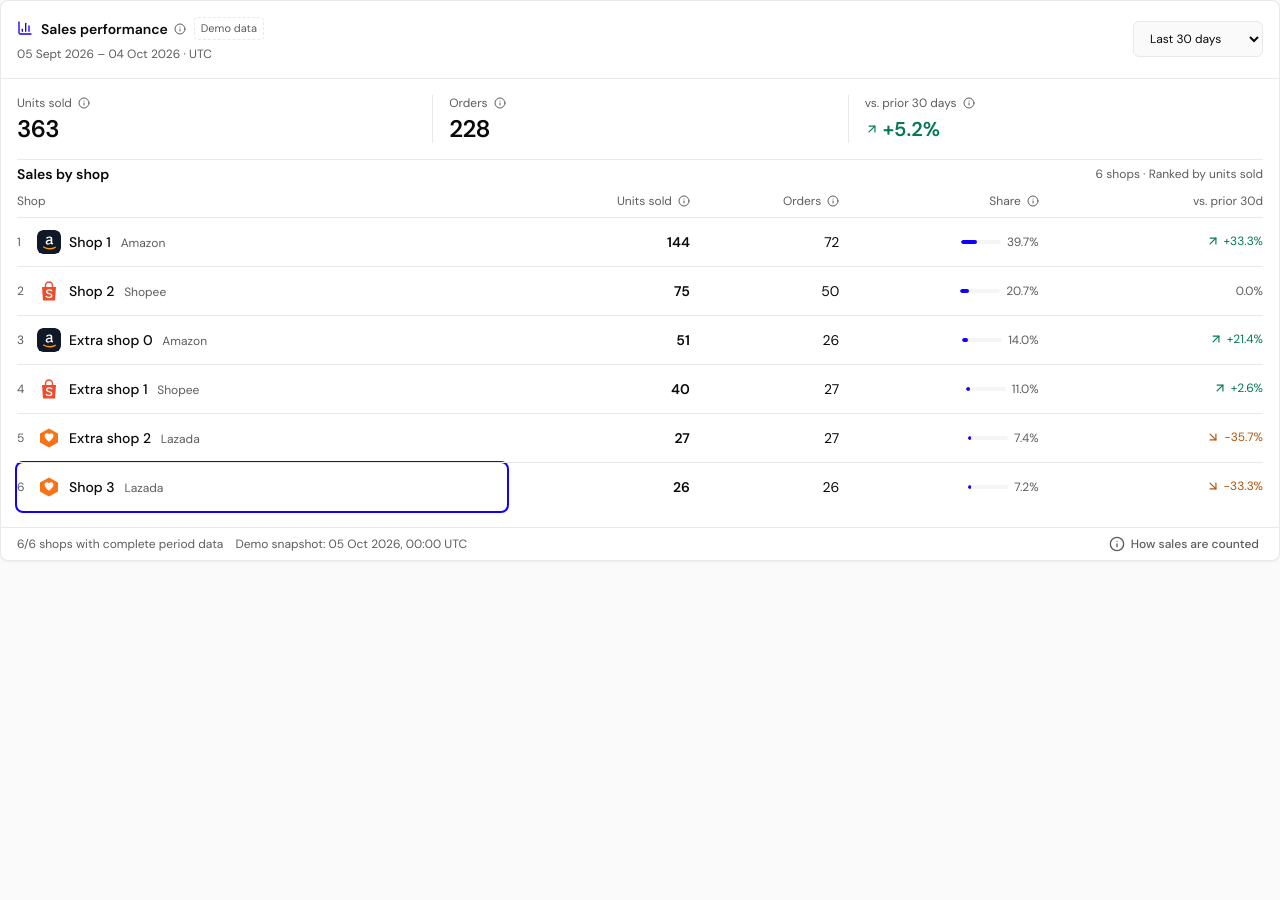
Test: ProductSalesPerformance › shows every shop and all shop metrics directly in Overview, without a view-all step
The width and height of the screenshot is (1280, 900).
expect the element named "Sales summary" shows "363": met, box [17,114,59,144]
expect the number of column headings is 5: met, box [17,184,515,218]; [515,184,690,218]; [690,184,839,218]; [839,184,1039,218]; [1039,184,1263,218]
Step 1. Click the button "6 Shop 3 Lazada" → (92, 487), box [17,463,507,511]
(page scrolled)
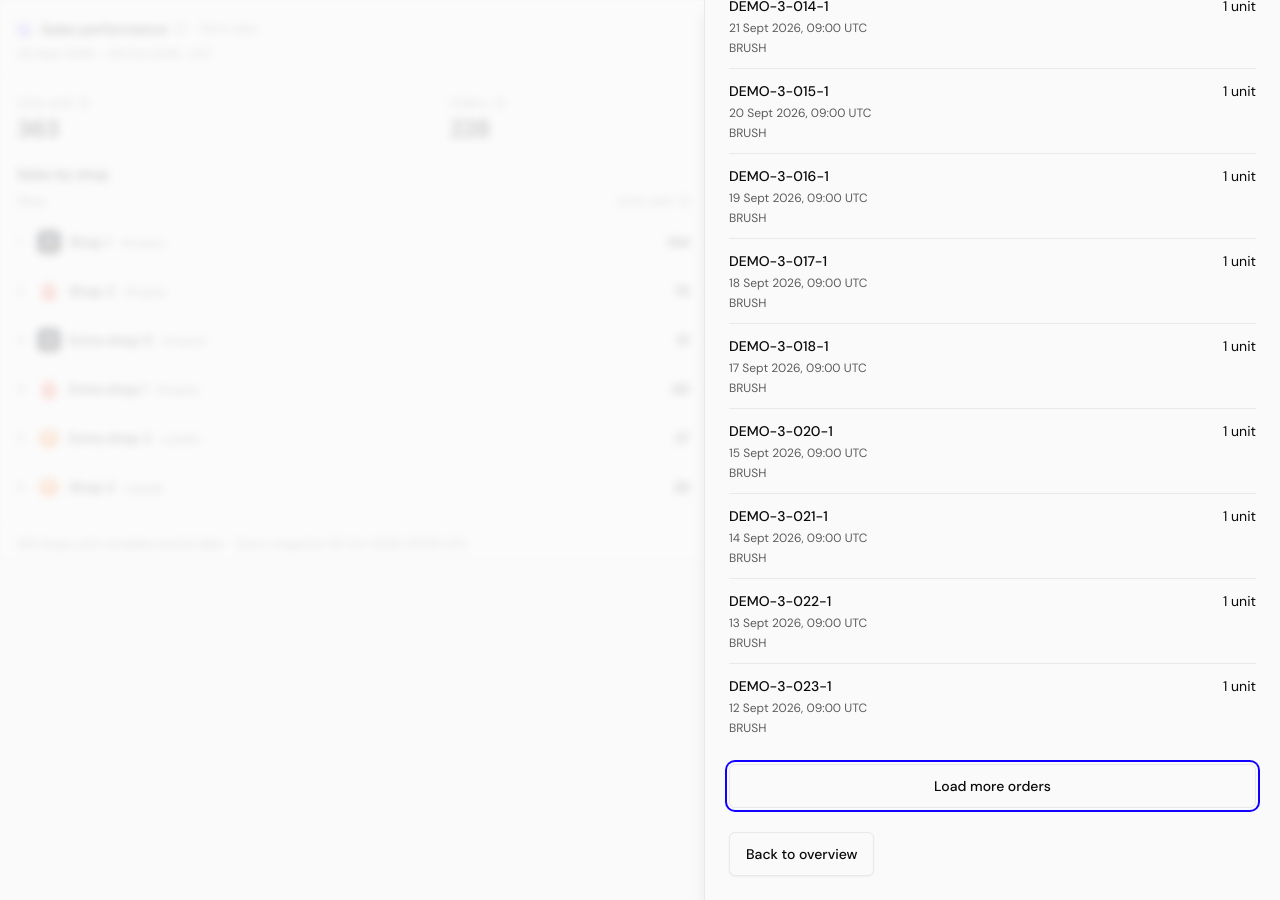
Step 2. Click the button "Back to overview" → (802, 854), box [729,832,874,876]
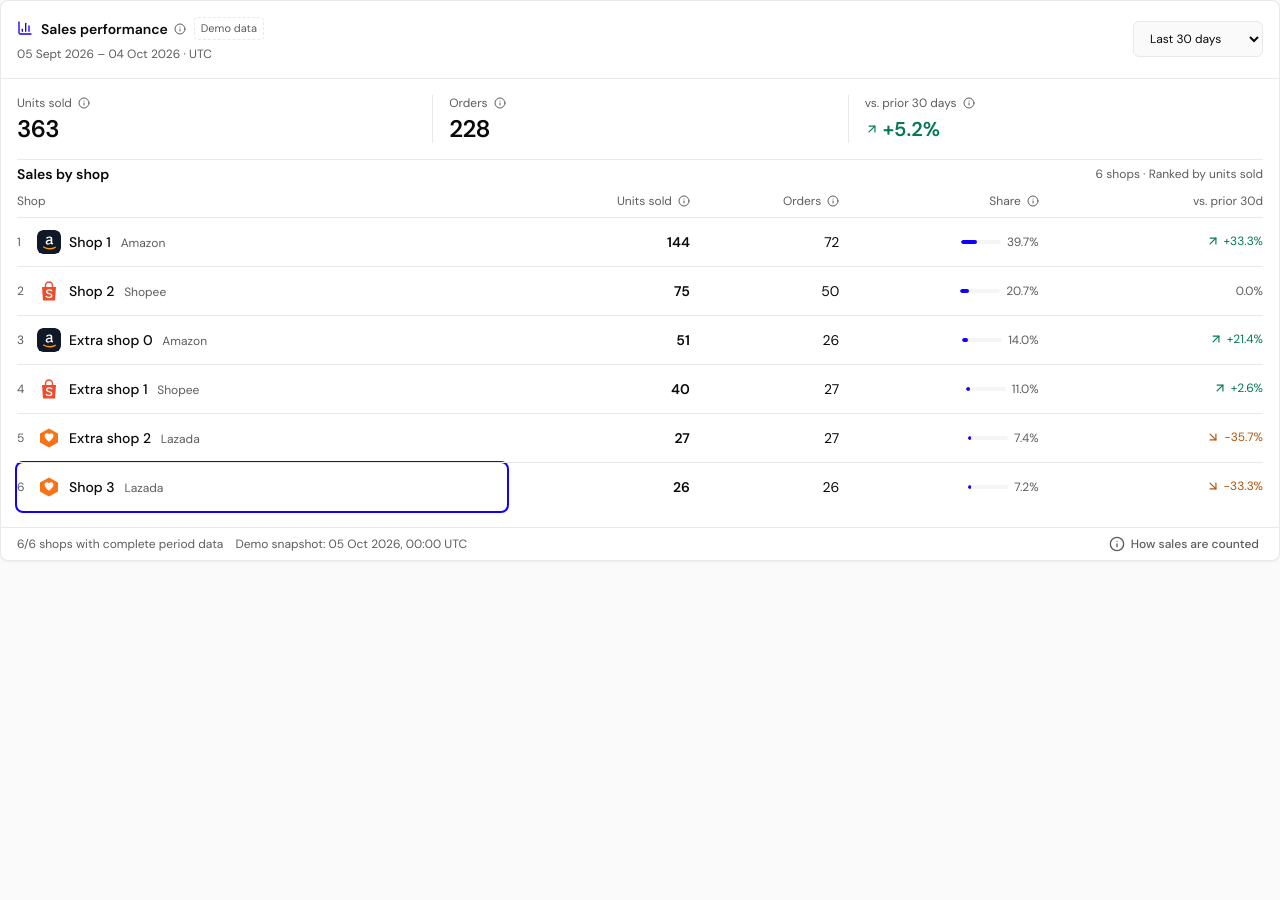
expect the dialog is gone: met
